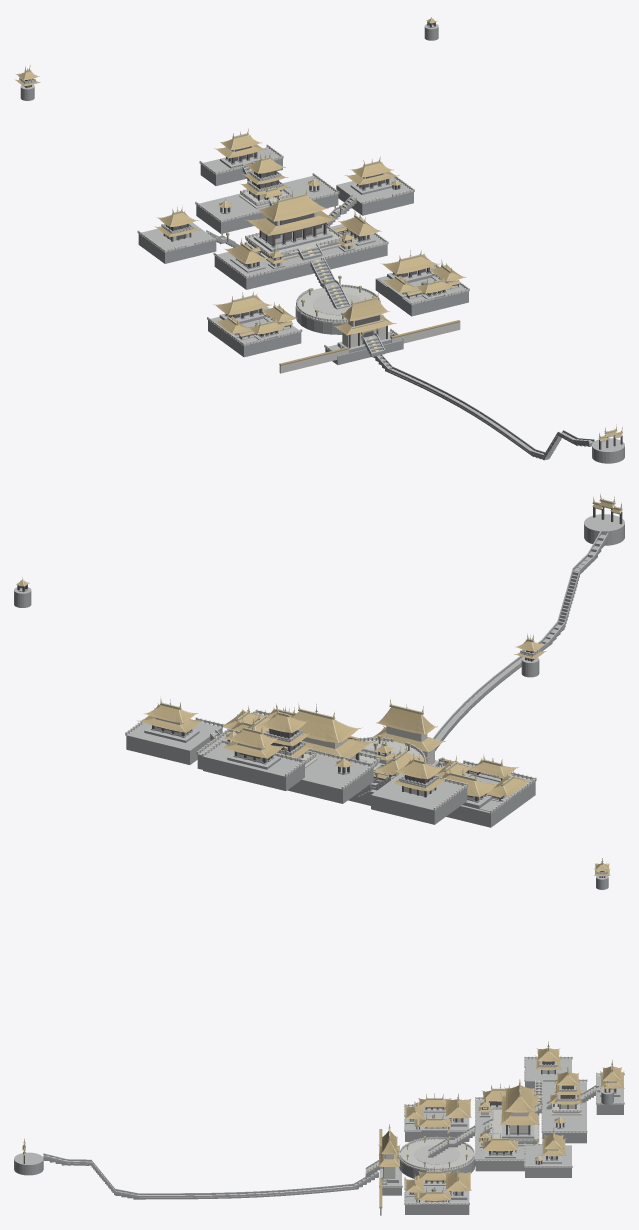
Rendered from sect_gujian.glb.
The picture shows the model from 3 angles, top to bottom: view 1: azimuth 30°, elevation 25°; view 2: azimuth 150°, elevation 25°; view 3: azimuth 270°, elevation 25°; orthographic projection. The views are drawn at different scales.
Parts seen in each view (by area): view 1: sect_gujian; view 2: sect_gujian; view 3: sect_gujian.
Boxes of the visible parts, x1,y1,x2,y2 form: sect_gujian: (14,17,624,463); sect_gujian: (14,493,624,827); sect_gujian: (14,858,624,1215).
Bounding box in the file's own units: 705 × 416 × 988.
